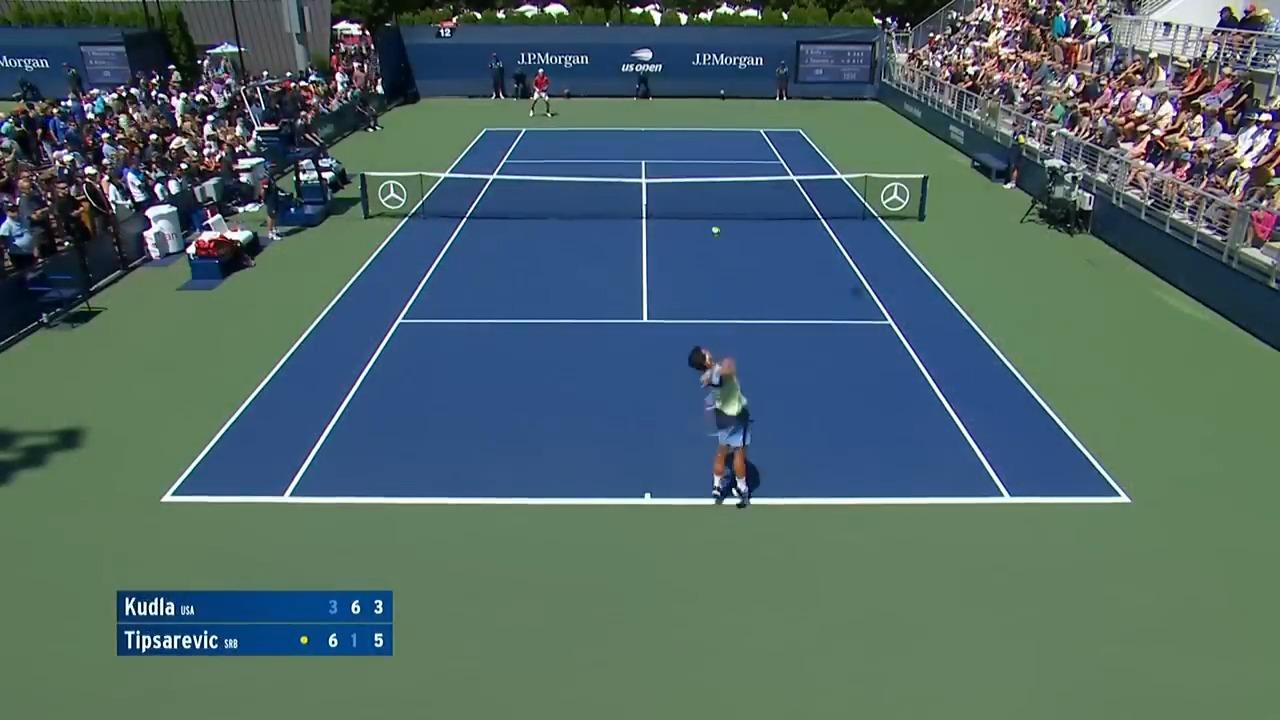tennis ball: (713, 227, 719, 234)
